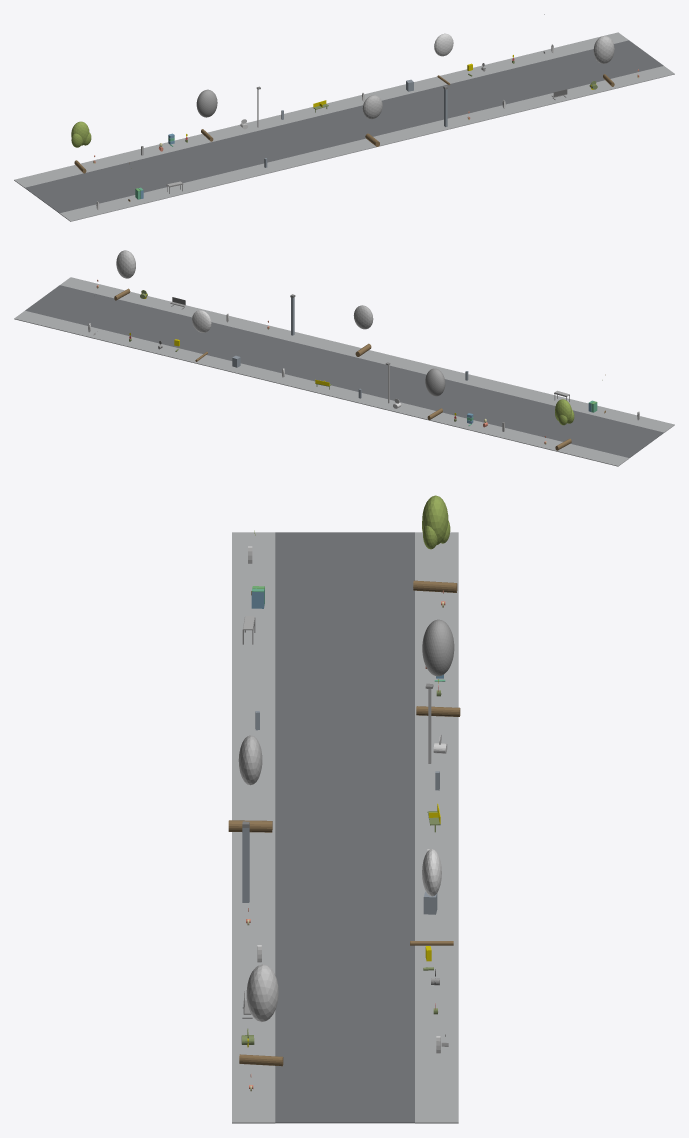
The picture shows the model from 3 angles, top to bottom: view 1: azimuth 30°, elevation 25°; view 2: azimuth 150°, elevation 25°; view 3: azimuth 270°, elevation 25°; orthographic projection. The views are drawn at different scales.
Parts seen in each view (by area): view 1: road_slab, sidewalk_left, sidewalk_right, inst_0016, inst_0013, inst_0012, inst_0014, inst_0015; view 2: road_slab, sidewalk_right, sidewalk_left, inst_0016, inst_0013, inst_0012, inst_0014, inst_0015; view 3: road_slab, sidewalk_left, sidewalk_right, inst_0016, inst_0013, inst_0012, inst_0014, inst_0015.
Part boxes in pixels (left/top/right/bottom): road_slab: left=25, top=40, right=663, bottom=213; sidewalk_left: left=59, top=66, right=674, bottom=221; sidewalk_right: left=14, top=32, right=628, bottom=187; inst_0016: left=593, top=36, right=614, bottom=86; inst_0013: left=196, top=89, right=217, bottom=141; inst_0012: left=71, top=121, right=91, bottom=173; inst_0014: left=362, top=95, right=382, bottom=146; inst_0015: left=434, top=33, right=453, bottom=85; road_slab: left=25, top=285, right=663, bottom=457; sidewalk_right: left=14, top=310, right=629, bottom=466; sidewalk_left: left=60, top=277, right=674, bottom=432; inst_0016: left=114, top=250, right=135, bottom=300; inst_0013: left=425, top=368, right=445, bottom=420; inst_0012: left=555, top=399, right=574, bottom=450; inst_0014: left=353, top=305, right=373, bottom=356; inst_0015: left=192, top=310, right=211, bottom=361; road_slab: left=275, top=532, right=414, bottom=1123; sidewalk_left: left=232, top=532, right=275, bottom=1123; sidewalk_right: left=415, top=532, right=458, bottom=1123; inst_0016: left=239, top=964, right=283, bottom=1066; inst_0013: left=416, top=619, right=460, bottom=716; inst_0012: left=413, top=495, right=457, bottom=592; inst_0014: left=228, top=735, right=272, bottom=832; inst_0015: left=410, top=849, right=453, bottom=945.
Size of the model in its own units: 80 by 6.08 by 13.28.
